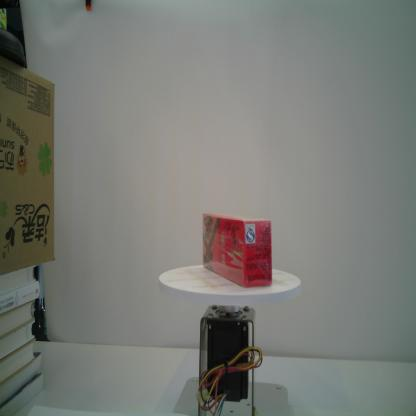Instant Drink: (202, 213, 272, 287)
